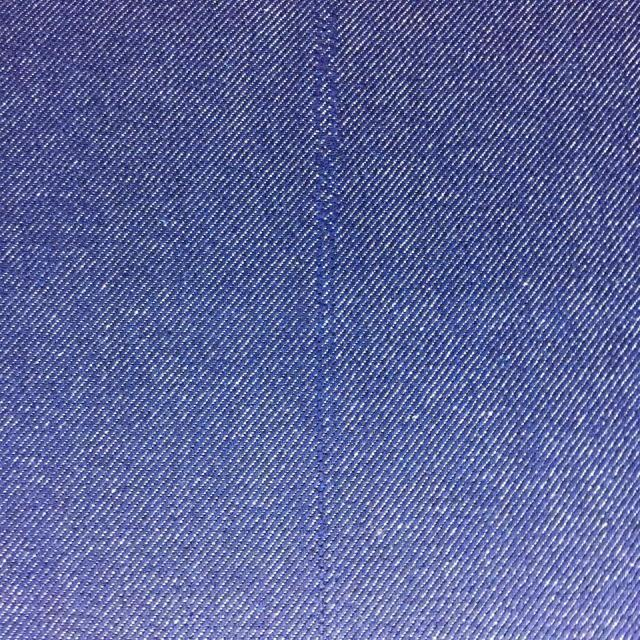Line: (311, 0, 335, 640)
